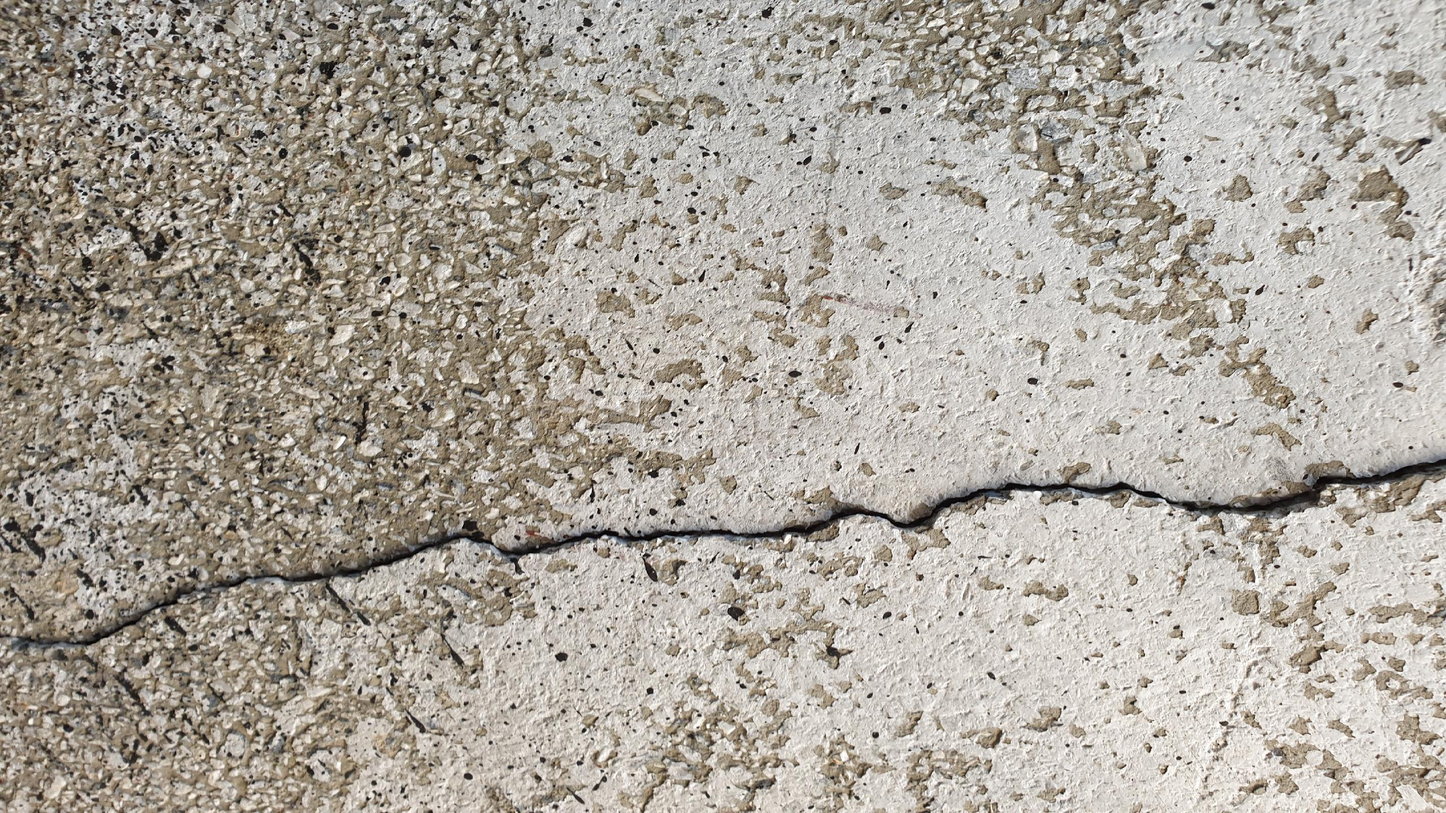crack: (3, 456, 1445, 648)
